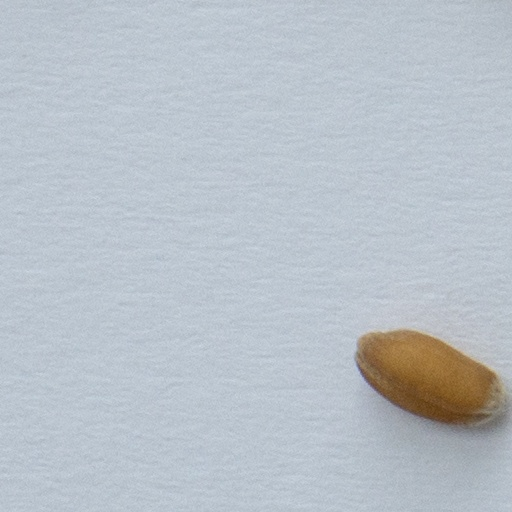Wheat-grain-poly: (353, 330, 502, 425)
